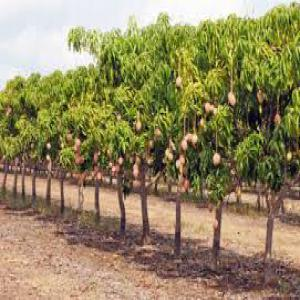Tree: (195, 8, 262, 276), (99, 23, 157, 242), (151, 10, 199, 263)
